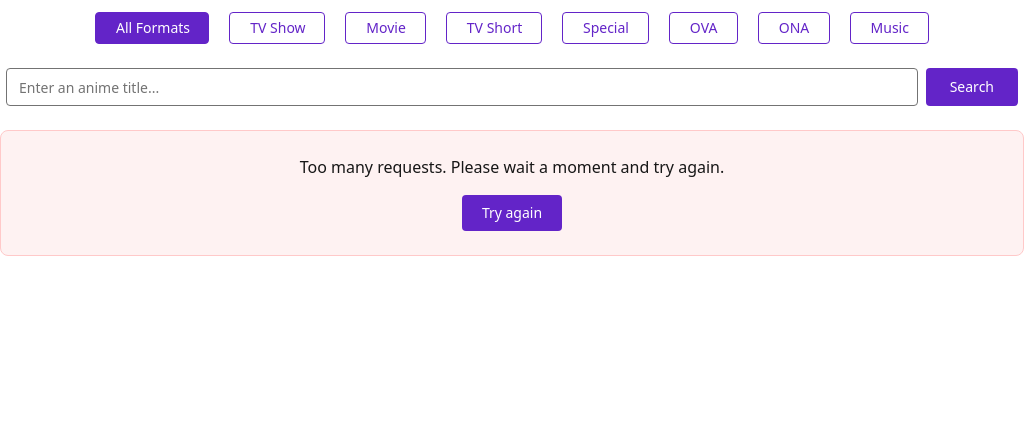
it: shows rate-limit guidance and recovers on retry
expect the message shows "Too many requests": met, box [300,156,724,178]
Click the button "Try again": (512, 213) [462,195,562,231]
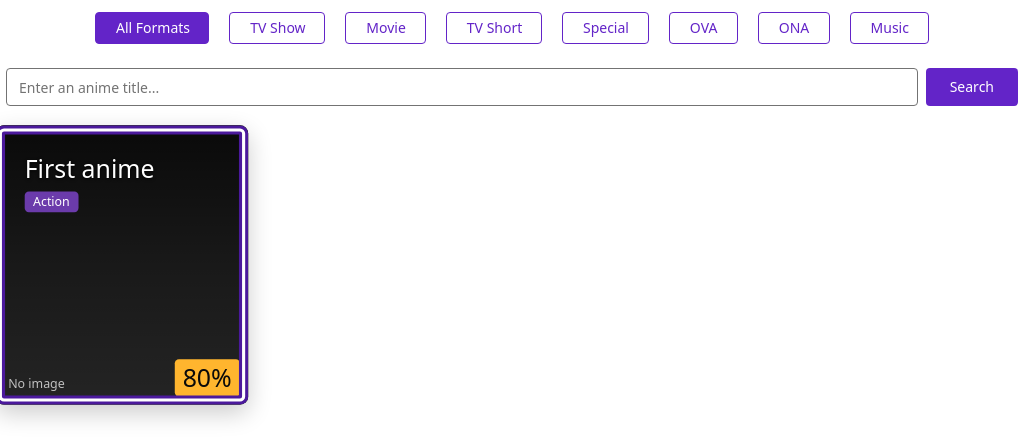
expect the heading "First anime" is shown: met, box [25,151,154,185]
